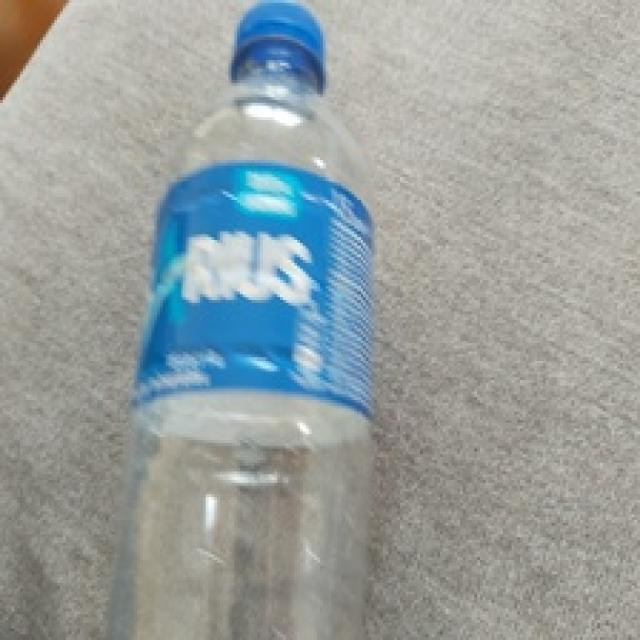Plastic: (111, 1, 373, 640)
